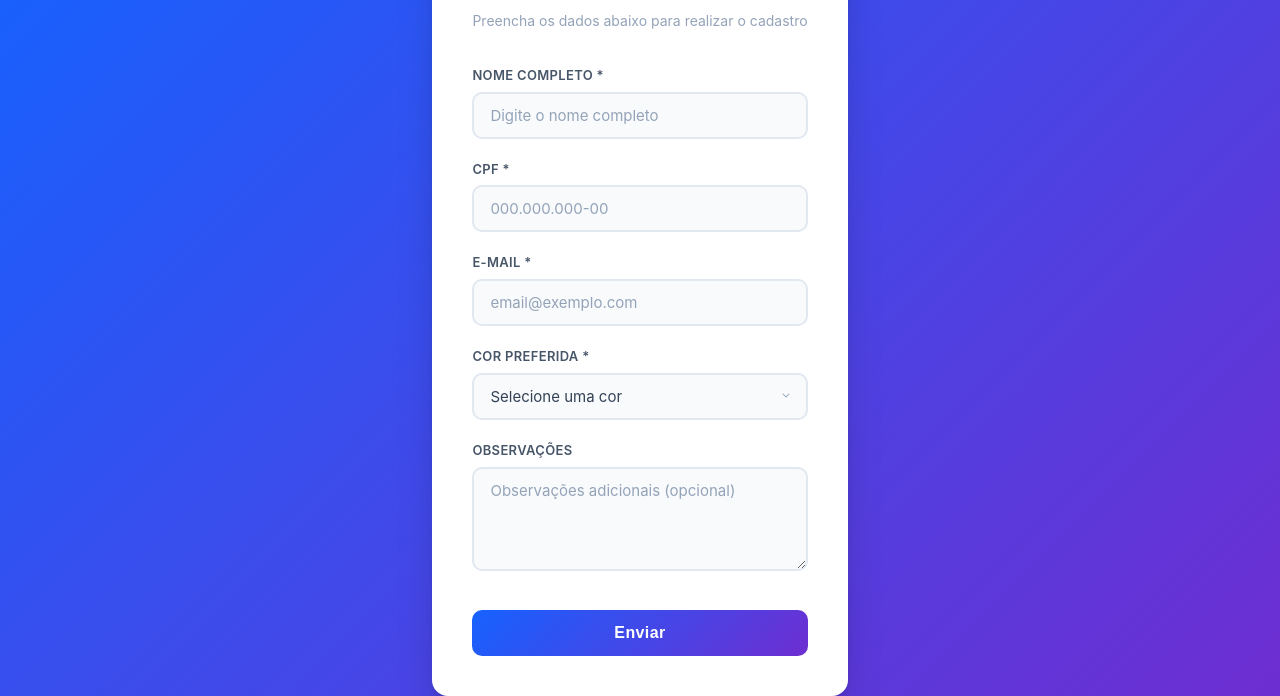
Test: ClientForm › shows validation errors on empty submit
(page scrolled)
Click the button "Enviar": (640, 633) [472,610,808,656]
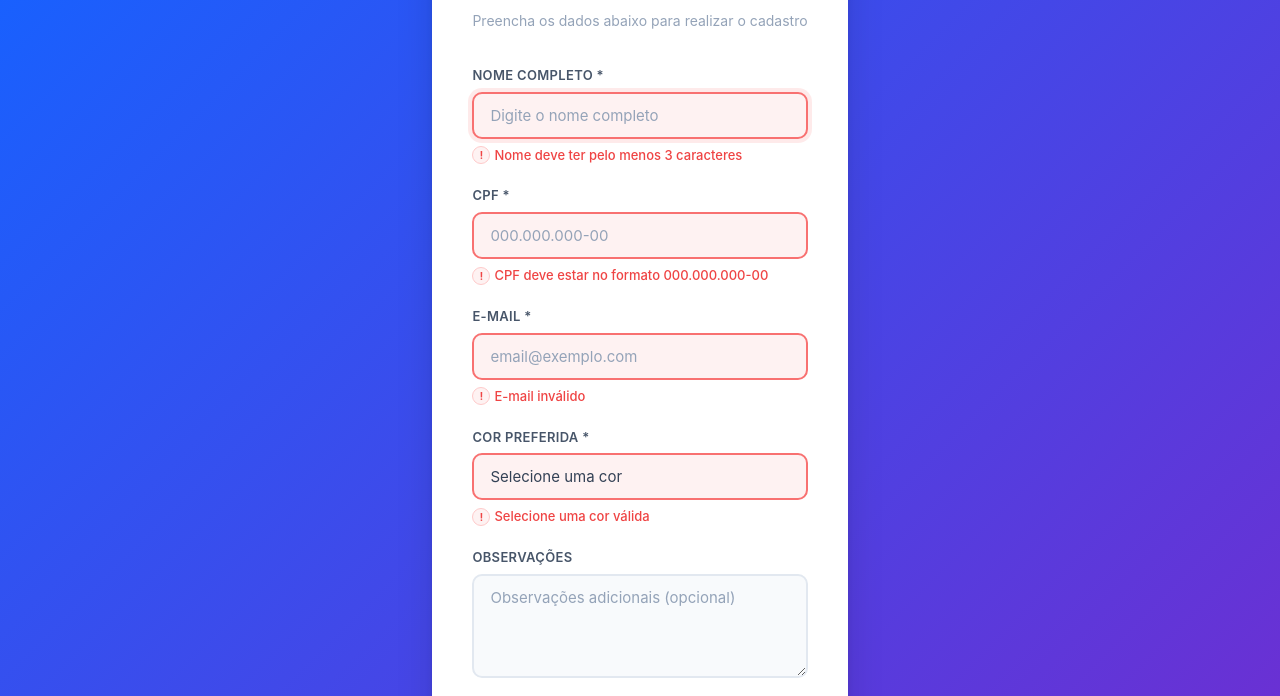
Now the text "Nome deve ter pelo menos 3 caracteres" is shown, box [494,147,742,163]
